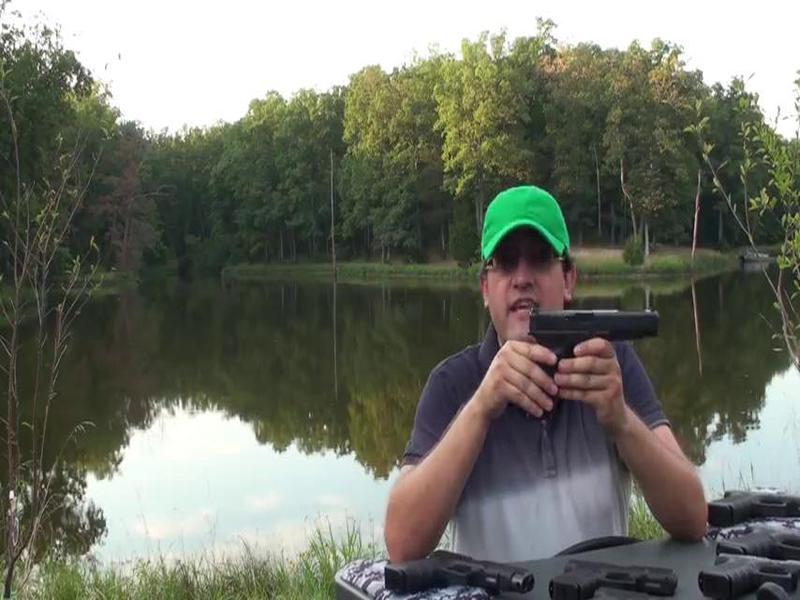Pistola: (503, 293, 693, 414)
